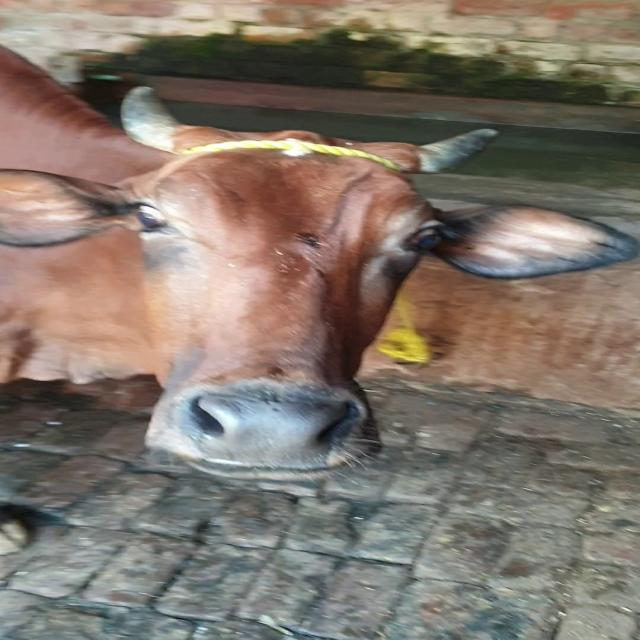cowFace: (133, 111, 443, 476)
